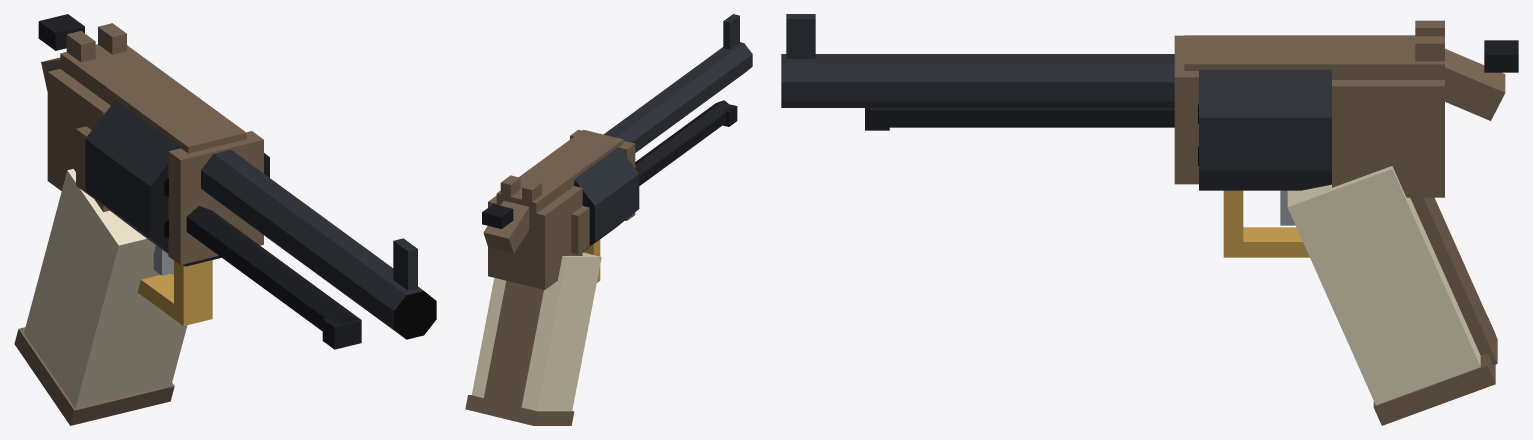
The model's file is revolver.glb.
3 renders of one model, left to right at view 1: azimuth 30°, elevation 25°; view 2: azimuth 150°, elevation 25°; view 3: azimuth 270°, elevation 25°, orthographic. The views are drawn at different scales.
Visible parts, largest first — view 1: revolver_body; view 2: revolver_body; view 3: revolver_body.
Boxes of the visible parts, box(x1,y1,x2,y2) form: revolver_body: box(14, 14, 436, 425); revolver_body: box(465, 14, 752, 425); revolver_body: box(781, 14, 1518, 425).
Size of the model in its own units: 0.179 by 0.5396 by 0.9375.
1 material, 1 textured.
